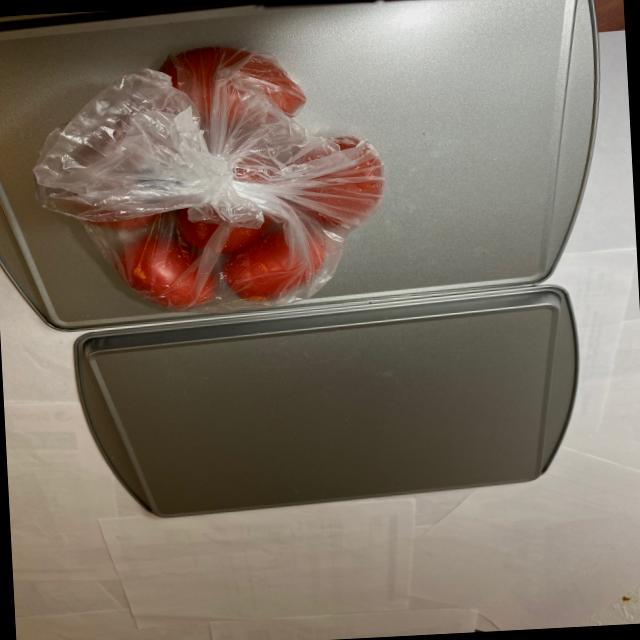tomato: (65, 38, 384, 317)
